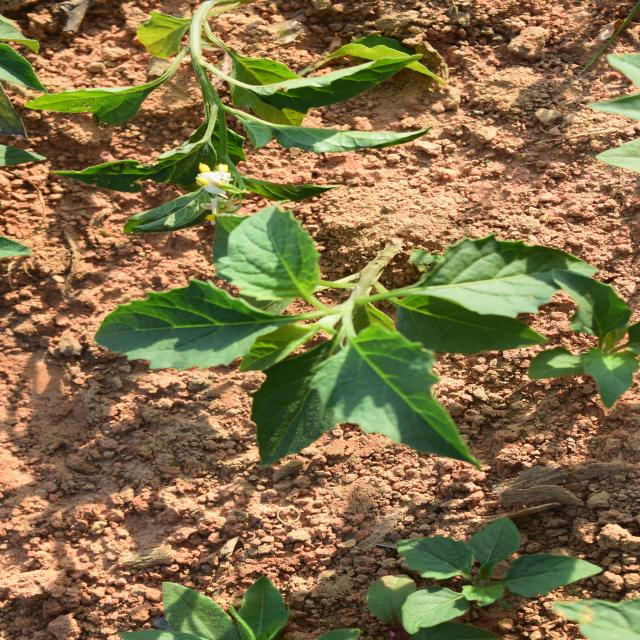Black_nightshade: (200, 99, 434, 561), (14, 366, 124, 592)
